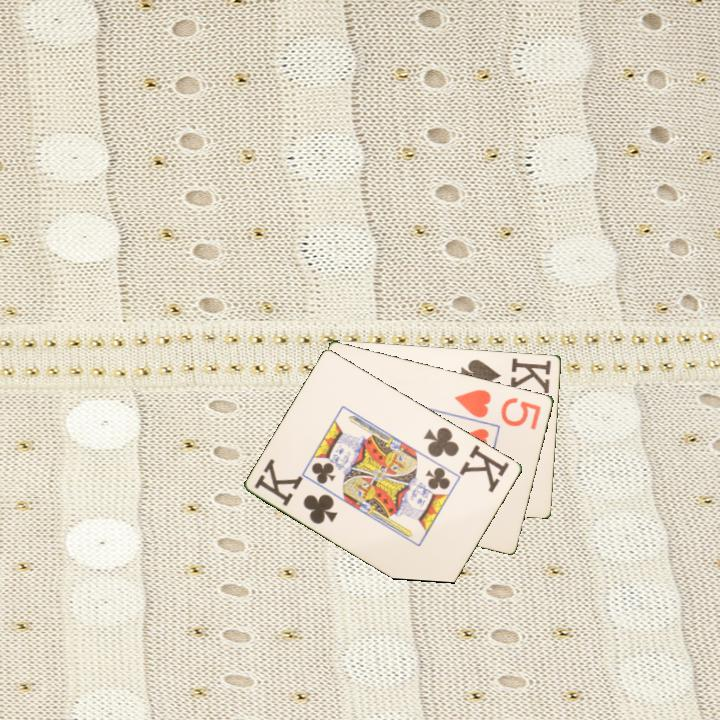5h: (451, 386, 544, 433)
Kc: (420, 423, 513, 495), (251, 456, 341, 527)
Ks: (457, 354, 555, 395)
